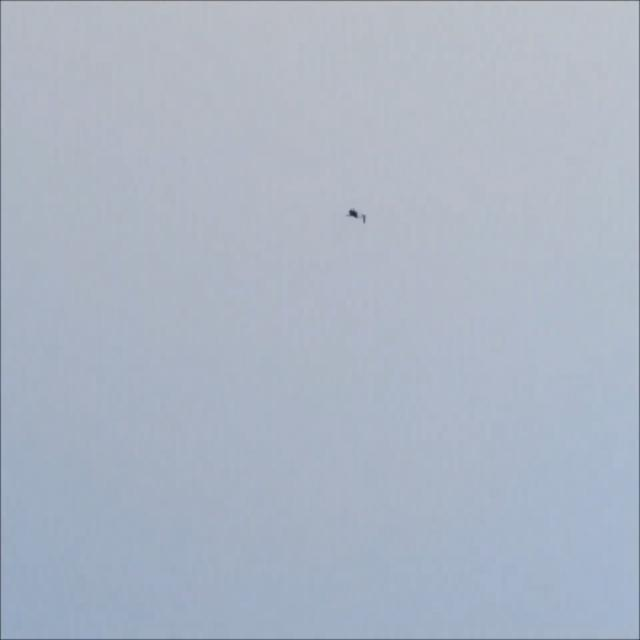UAV: (328, 190, 368, 265)
